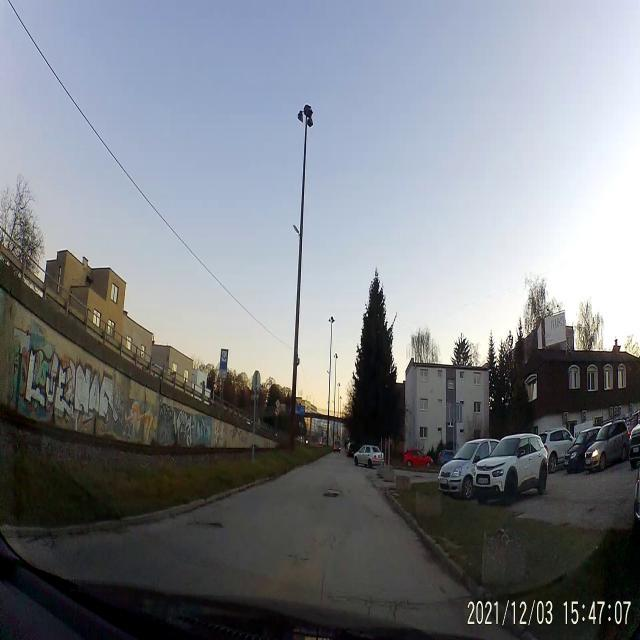Pothole: (202, 518, 225, 534), (322, 487, 340, 504)
